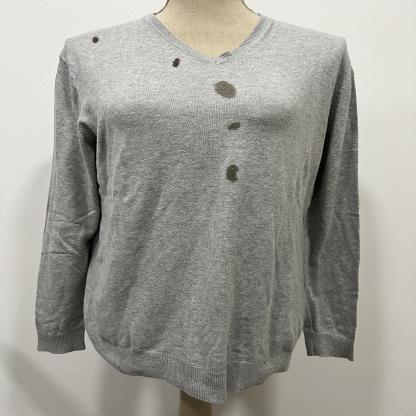stain: (211, 79, 240, 100), (224, 163, 241, 184), (224, 121, 243, 132), (171, 57, 182, 69), (91, 36, 100, 44)
